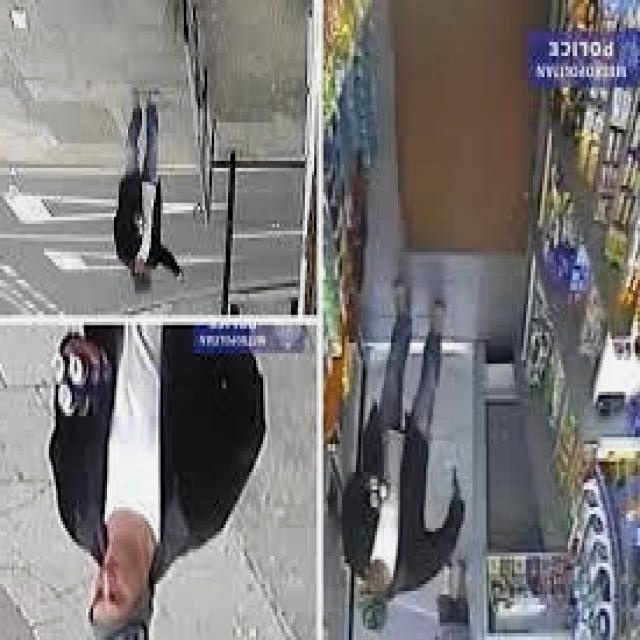gun: (449, 461, 470, 511)
